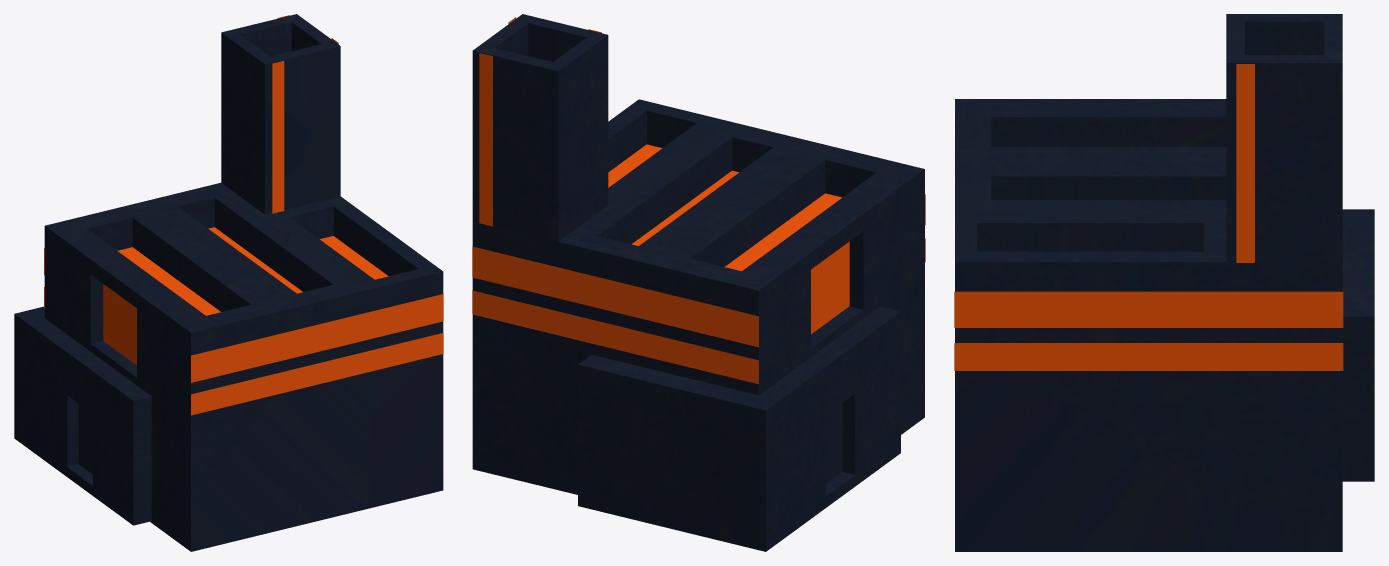
The model's file is Pink House.fbx.
3 renders of one model, left to right at view 1: azimuth 30°, elevation 25°; view 2: azimuth 150°, elevation 25°; view 3: azimuth 270°, elevation 25°, orthographic. The views are drawn at different scales.
Visible parts, largest first — view 1: Pink House, Neon5; view 2: Pink House, Neon5; view 3: Pink House, Neon5.
Boxes of the visible parts, x1,y1,x2,y2 form: Pink House: (14,14,443,551); Neon5: (44,15,443,415); Pink House: (472,14,924,551); Neon5: (472,17,925,384); Pink House: (955,14,1374,551); Neon5: (954,64,1343,370).
Bounding box in the file's own units: 21.36 × 27.69 × 21.57.
